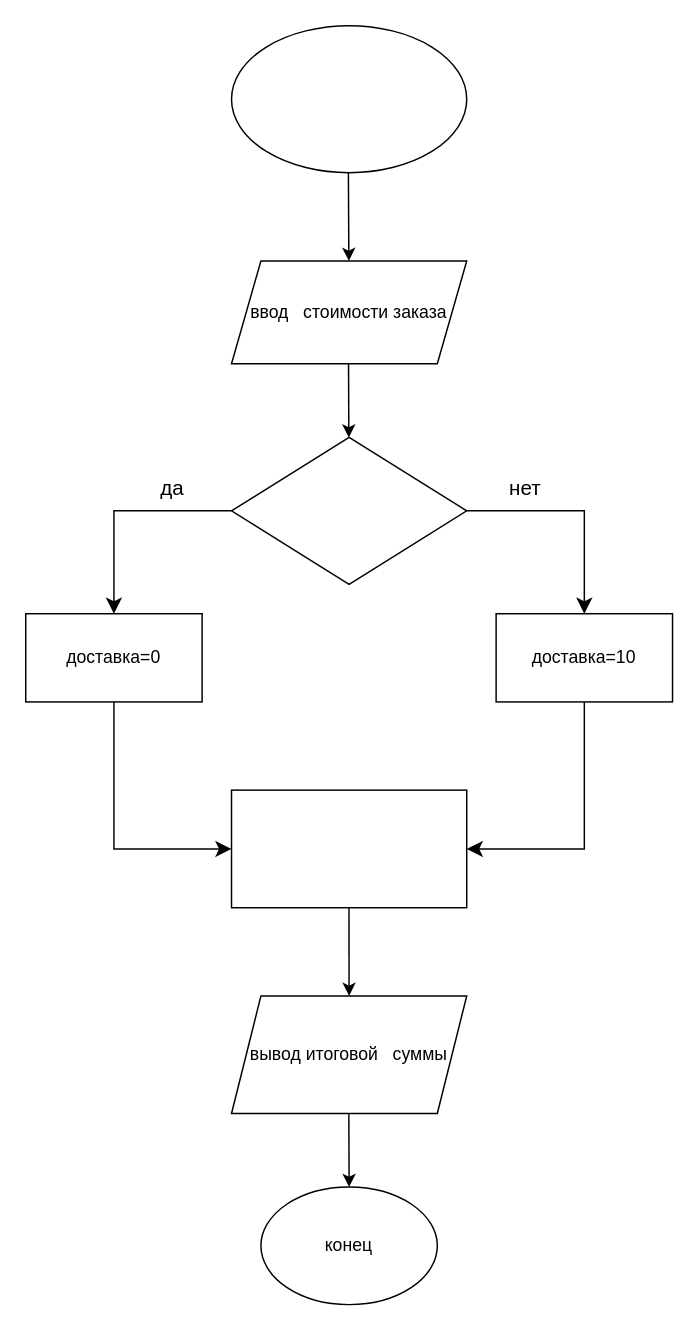
This 698x1330 diagram has some shape labels left out. The centre of each missing label's shape, as x and y in pixels:
"итоговая сумма=стоимость заказа+доставка" belongs at (x=348, y=848).
"начало" belongs at (x=348, y=98).
"стоимость заказа больше или равна 80?" belongs at (x=348, y=510).
